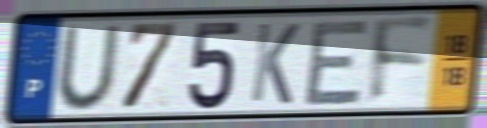5: (184, 18, 243, 112)
7: (122, 20, 179, 113)
E: (301, 16, 373, 109)
F: (368, 15, 436, 108)
K: (247, 20, 303, 108)
U: (54, 21, 124, 113)
